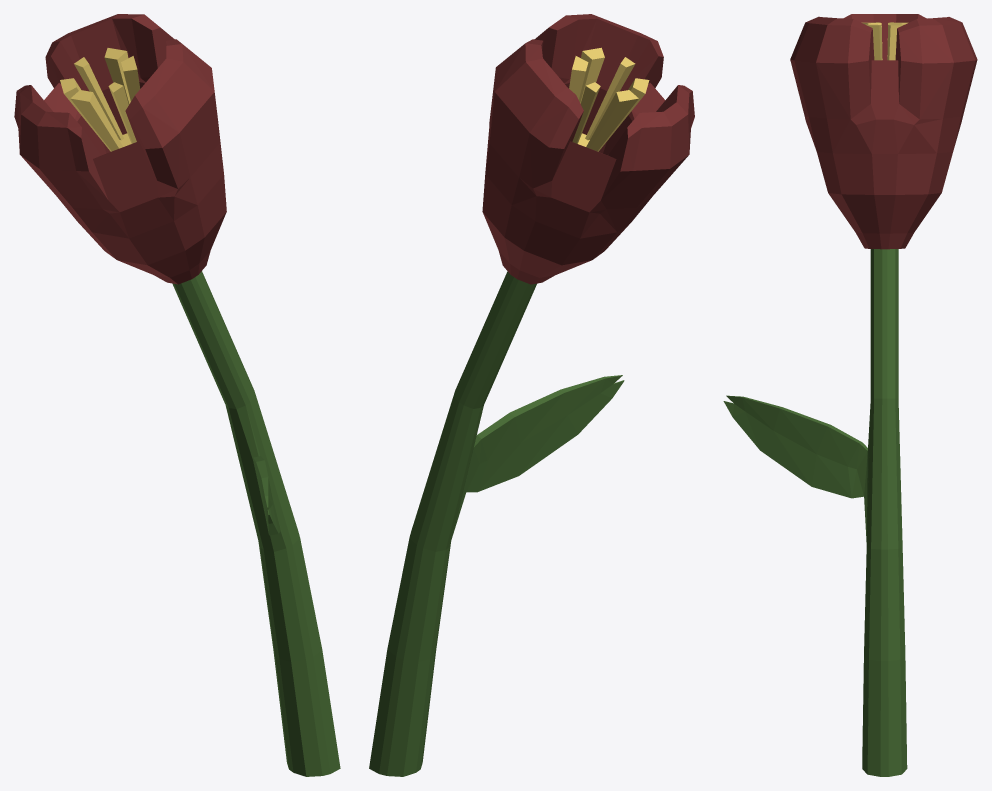
Rendered from Flower1.5.fbx.
The picture shows the model from 3 angles, left to right: view 1: azimuth 30°, elevation 25°; view 2: azimuth 150°, elevation 25°; view 3: azimuth 270°, elevation 25°; orthographic projection. The views are drawn at different scales.
Visible parts, largest first — view 1: Flower1.5; view 2: Flower1.5; view 3: Flower1.5.
Part boxes in pixels (x1=…): Flower1.5: x1=14, y1=14, x2=340, y2=776; Flower1.5: x1=369, y1=14, x2=694, y2=776; Flower1.5: x1=723, y1=14, x2=977, y2=776.
Bounding box in the file's own units: 65.44 × 158 × 53.54.
